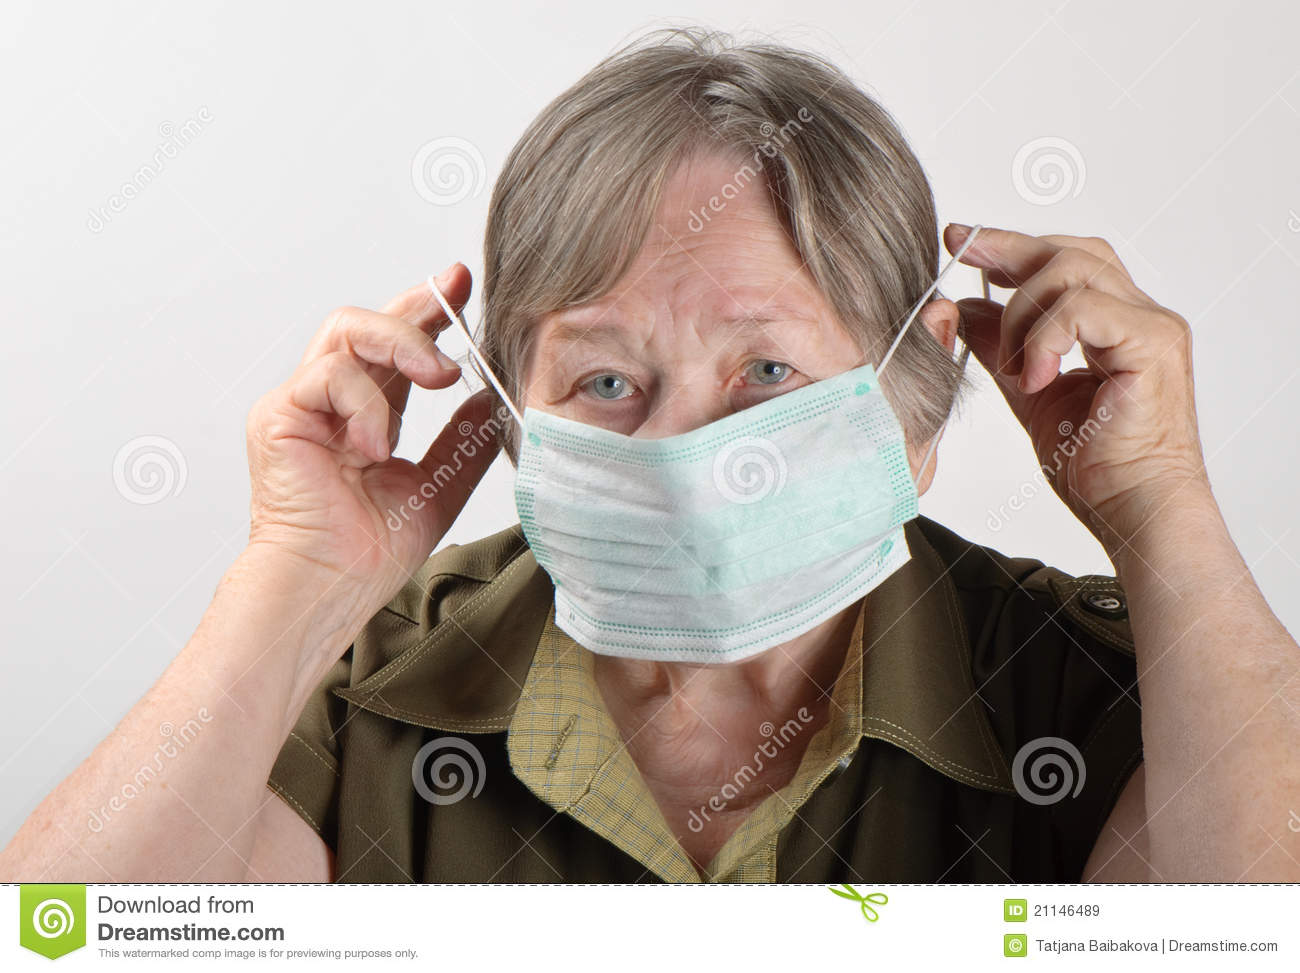mask: (512, 386, 918, 667)
